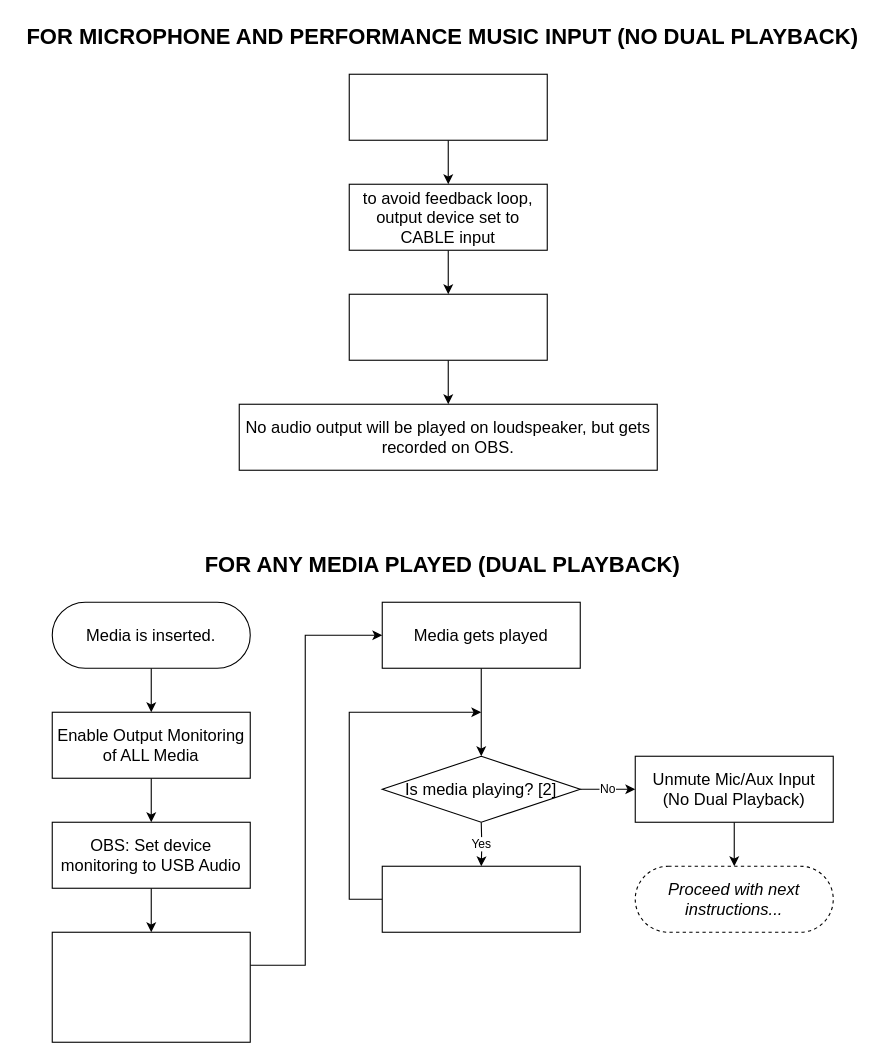
Some shapes in this 884 by 1062 pixel diagram are drawn without their labels. The shapes that lost their labels are listed below. From the top down, each one's centre as x and y in pixels, then its label:
At (x=447, y=106): "scrcpy play based on Windows output device".
At (x=447, y=326): "In OBS, set Mic/Aux input as CABLE output".
At (x=480, y=898): "Mute Mic/Aux Input (Avoid Dual Playback/ Echo)".
At (x=150, y=986): "PARSEC: Set capture audio to USB Audio (PARSEC restart on client required)".
